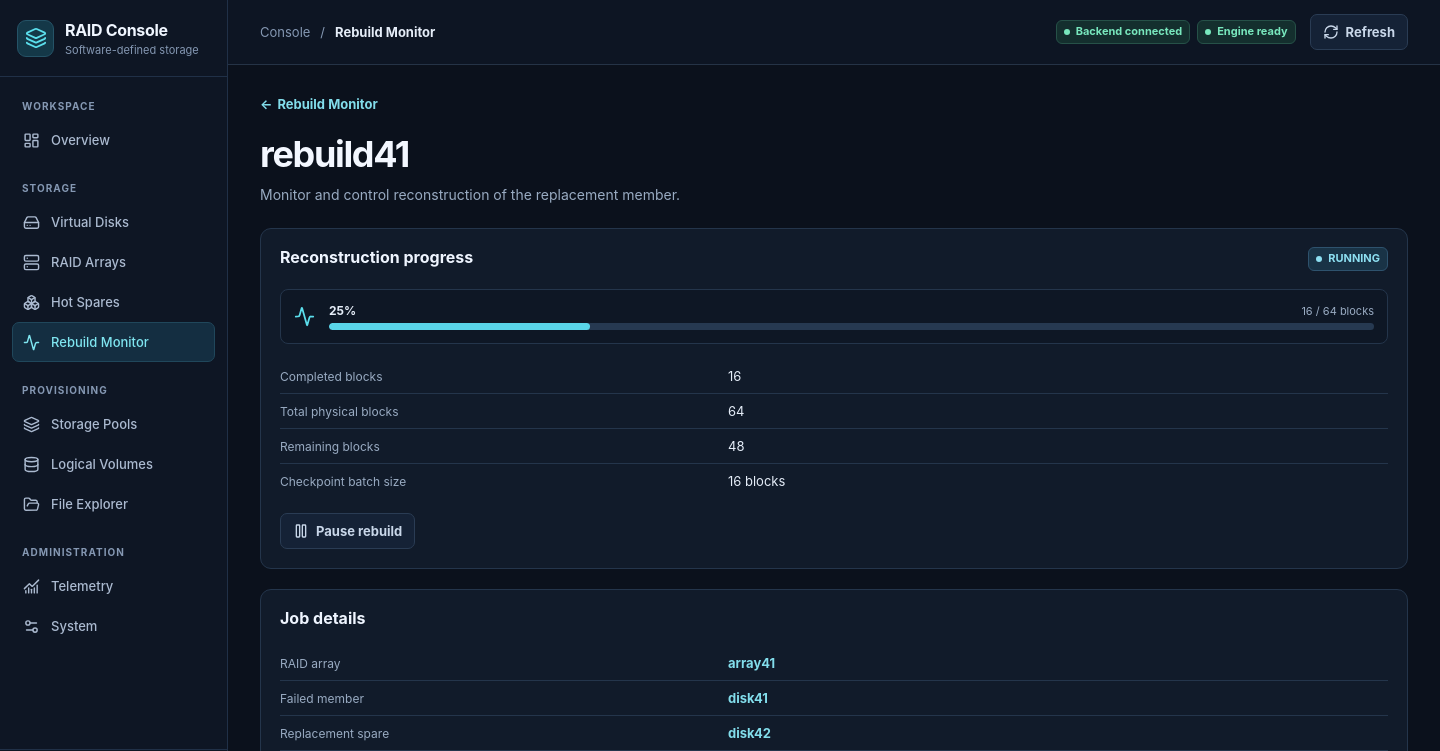
Test: rebuild monitor › renders actual block progress, requests pause and resumes the durable job
The width and height of the screenshot is (1440, 751).
Expected: the text "48" is shown, [728,438,744,454]
Click the button "Pause rebuild" at [348, 530], box [280,512,415,548]
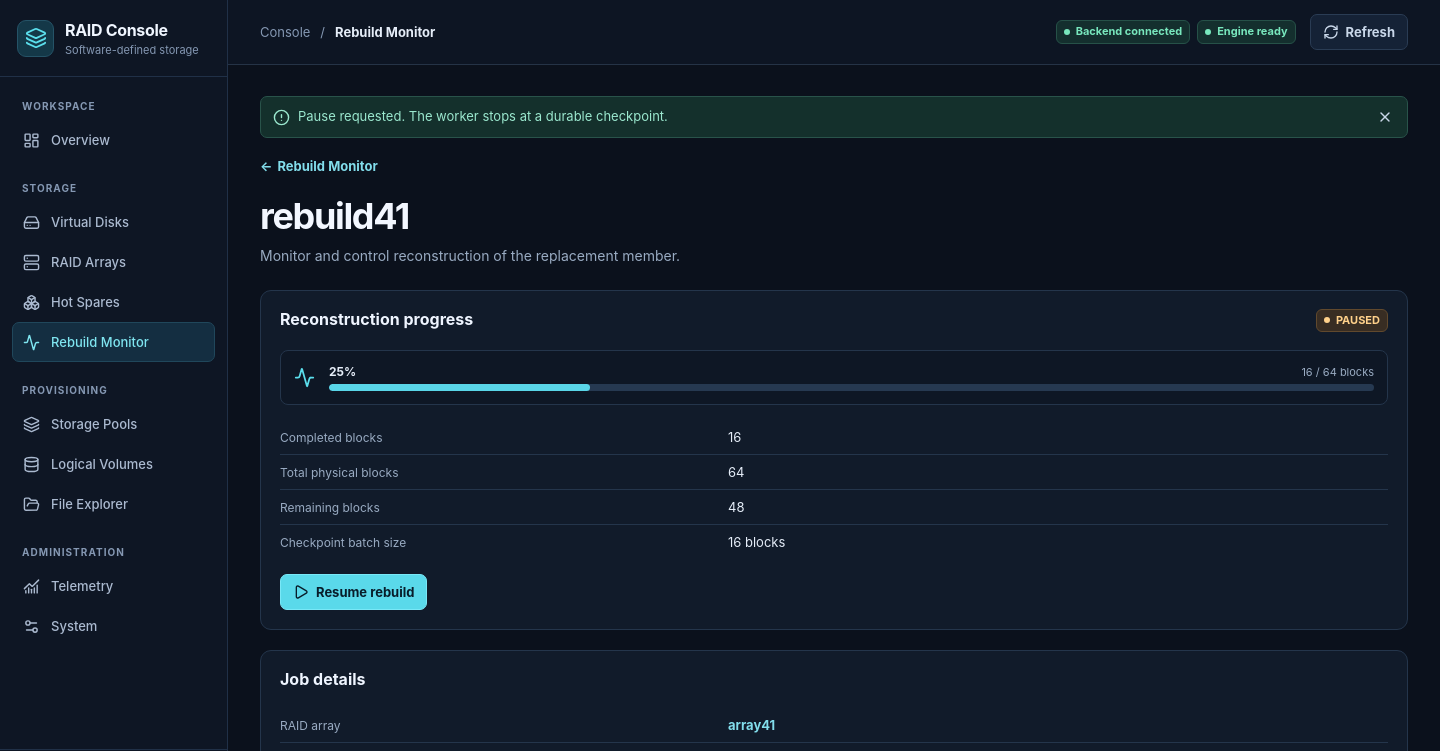
Result: the text "PAUSED" is shown at [1316,309,1388,332]
Click the button "Resume rebuild" at [354, 592], box [280,574,427,610]
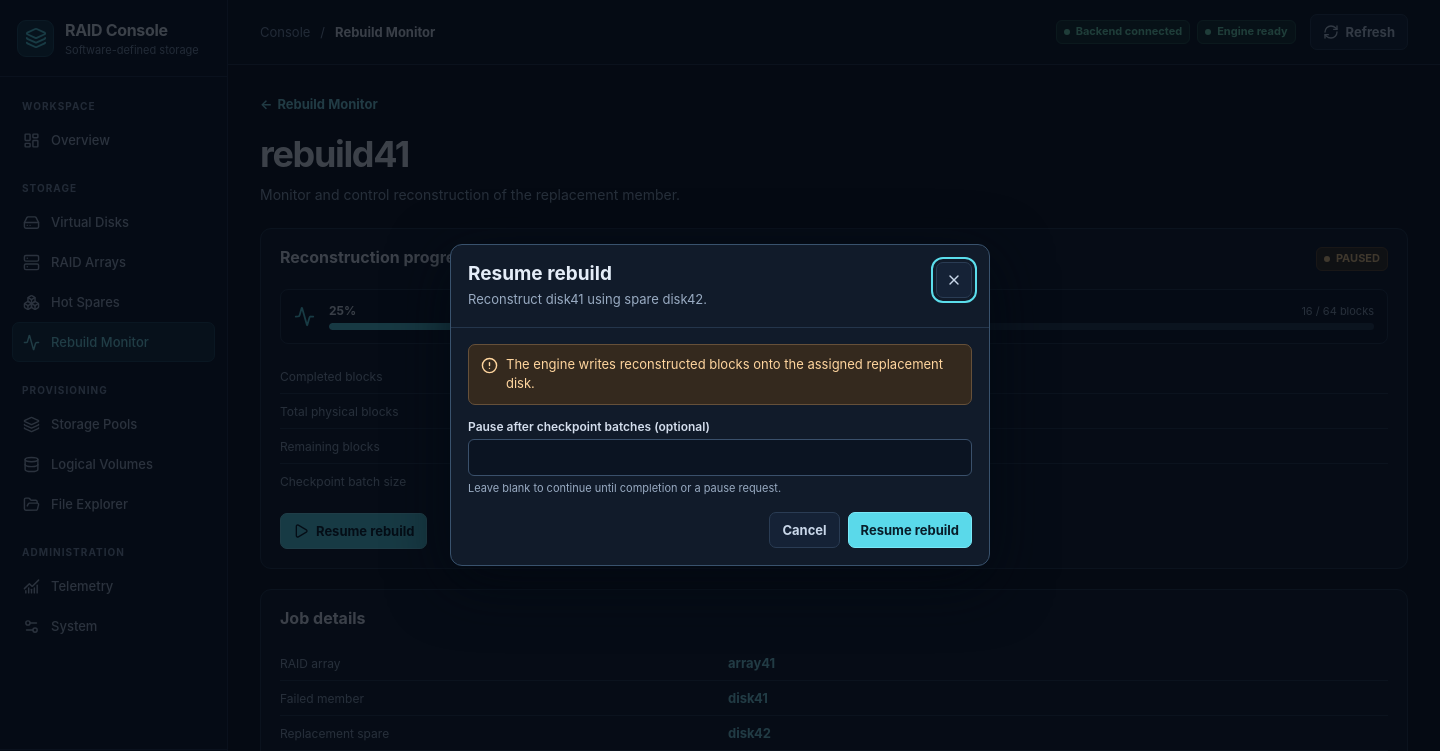
Type "3" into the number field labelled "Pause after checkpoint batches (optional)" at [720, 457], box [468,438,972,476]
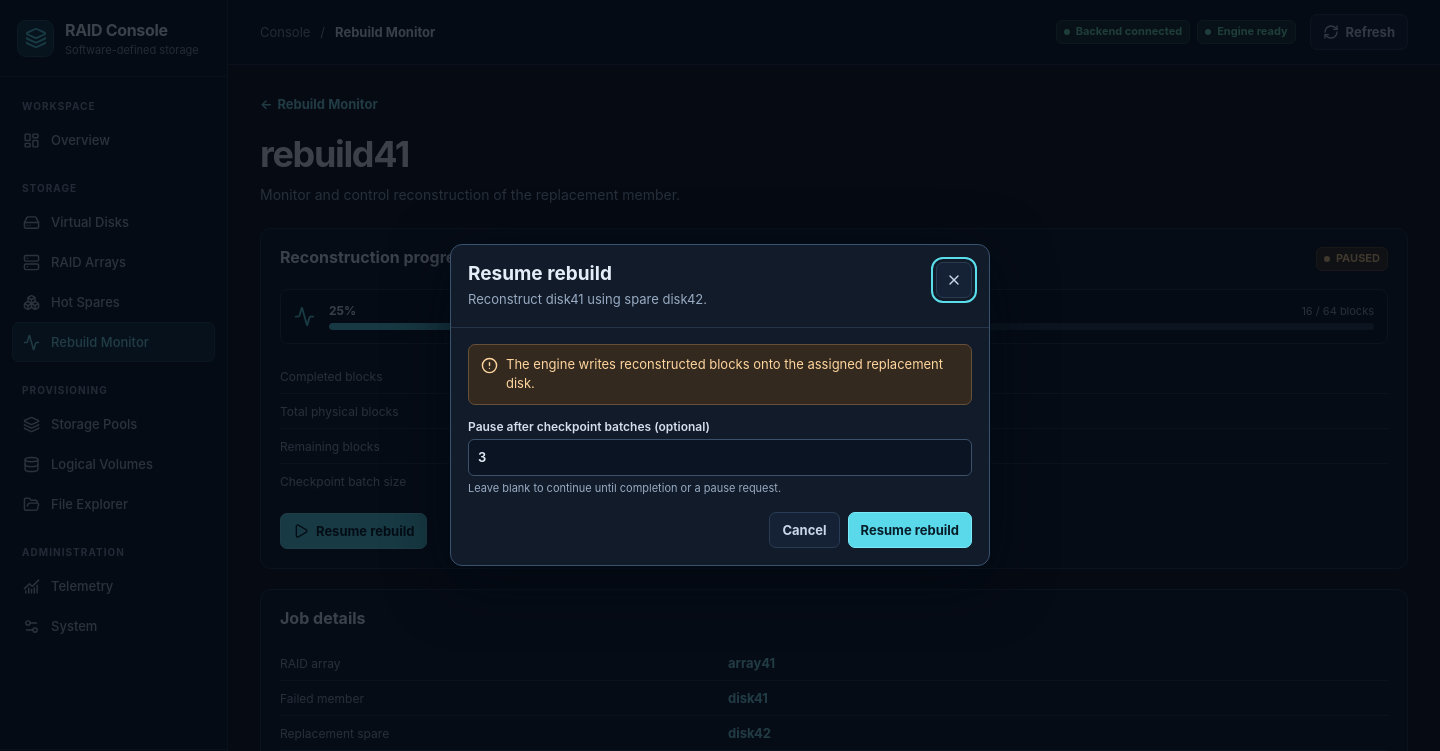
Click the button "Resume rebuild" at [910, 530], box [848,512,972,548]
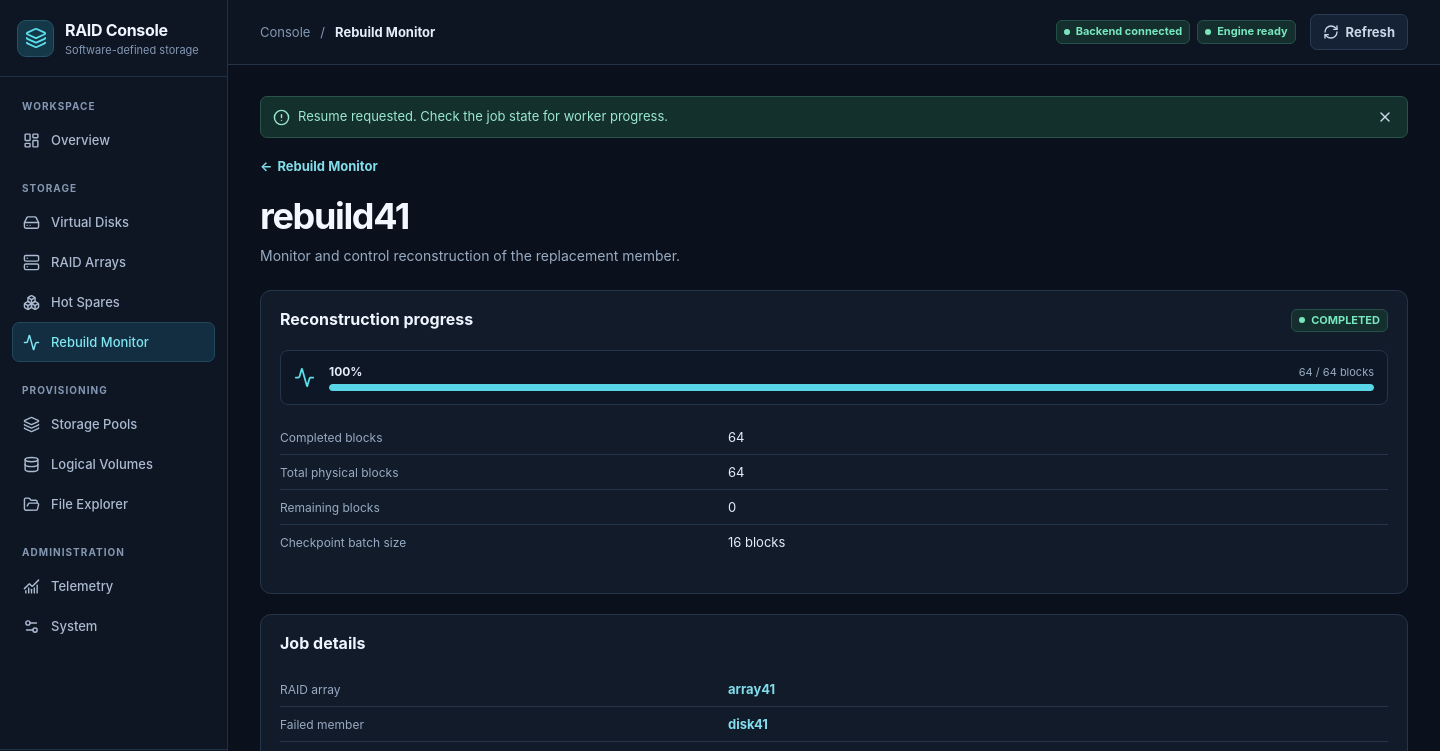
Result: the text "100%" is shown at [329,364,362,379]
